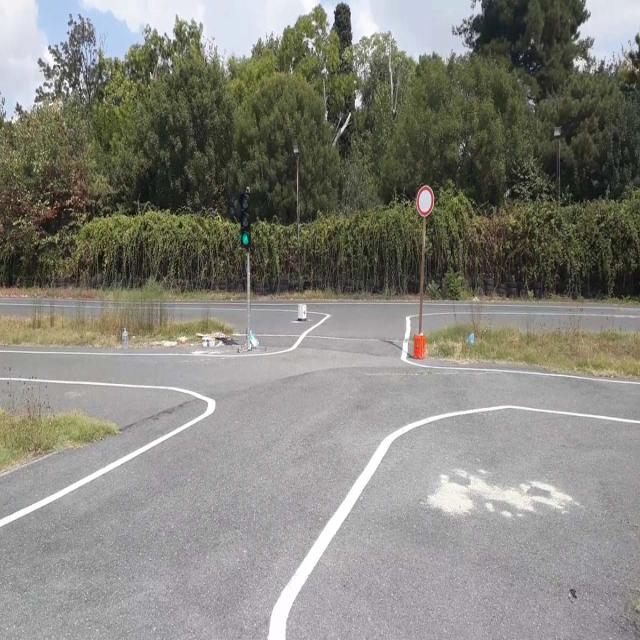yesil: (240, 193, 252, 246)
